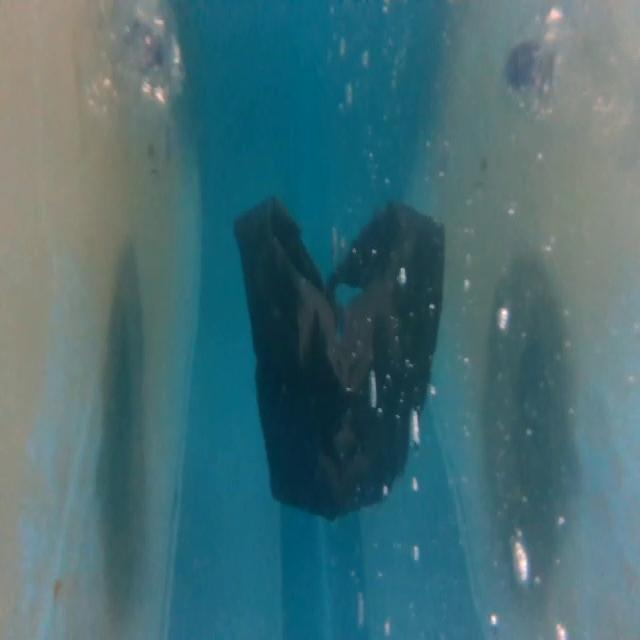plastic bags: (228, 186, 453, 524)
